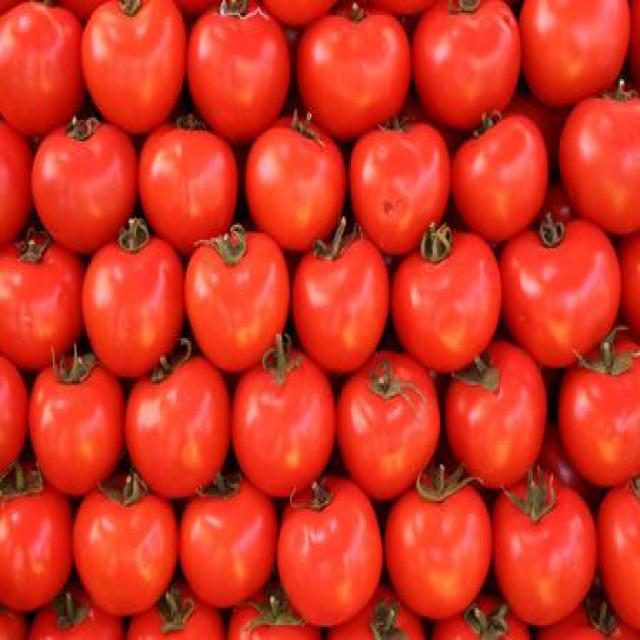Tomato: (500, 216, 626, 354), (392, 236, 512, 377), (387, 480, 500, 622), (273, 480, 384, 624), (448, 348, 554, 485), (185, 232, 288, 371), (127, 351, 227, 490), (337, 368, 442, 499), (81, 3, 191, 128), (493, 488, 597, 620), (24, 354, 123, 491), (34, 121, 138, 251), (245, 120, 347, 252), (301, 4, 411, 126), (86, 234, 192, 359), (185, 6, 291, 130), (298, 236, 394, 372), (232, 364, 334, 488), (140, 116, 242, 240), (73, 486, 176, 608), (460, 116, 560, 234), (411, 1, 520, 109), (353, 129, 450, 246), (186, 488, 279, 598)
